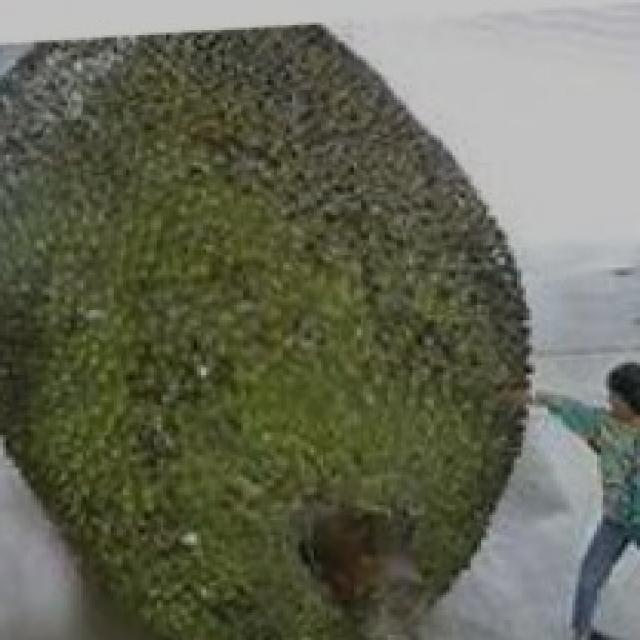Fruit: (0, 25, 397, 407), (169, 2, 569, 322)
